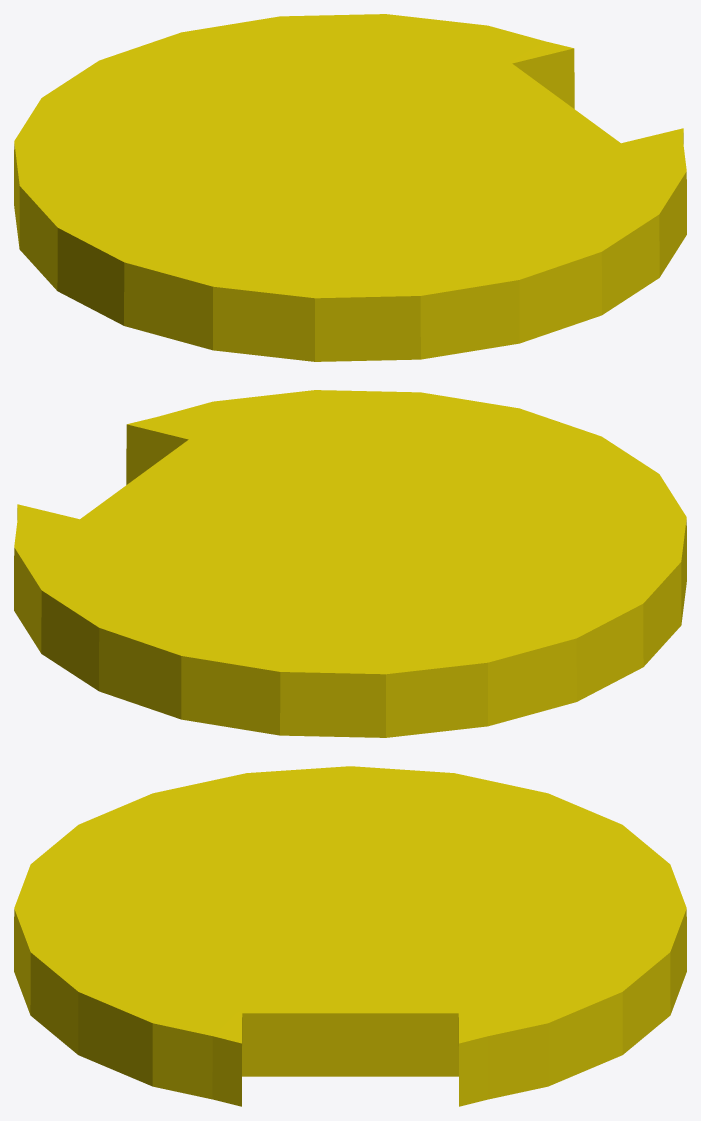
The model's file is Mid Support Center.fbx.
The picture shows the model from 3 angles, top to bottom: view 1: azimuth 30°, elevation 25°; view 2: azimuth 150°, elevation 25°; view 3: azimuth 270°, elevation 25°; orthographic projection.
Visible parts, largest first — view 1: Lower_Tube_Plate; view 2: Lower_Tube_Plate; view 3: Lower_Tube_Plate.
Boxes of the visible parts, left/top/right/bottom form: Lower_Tube_Plate: left=14, top=14, right=686, bottom=361; Lower_Tube_Plate: left=14, top=390, right=686, bottom=737; Lower_Tube_Plate: left=14, top=766, right=686, bottom=1106.
Bounding box in the file's own units: 72.07 × 7.66 × 73.87.
